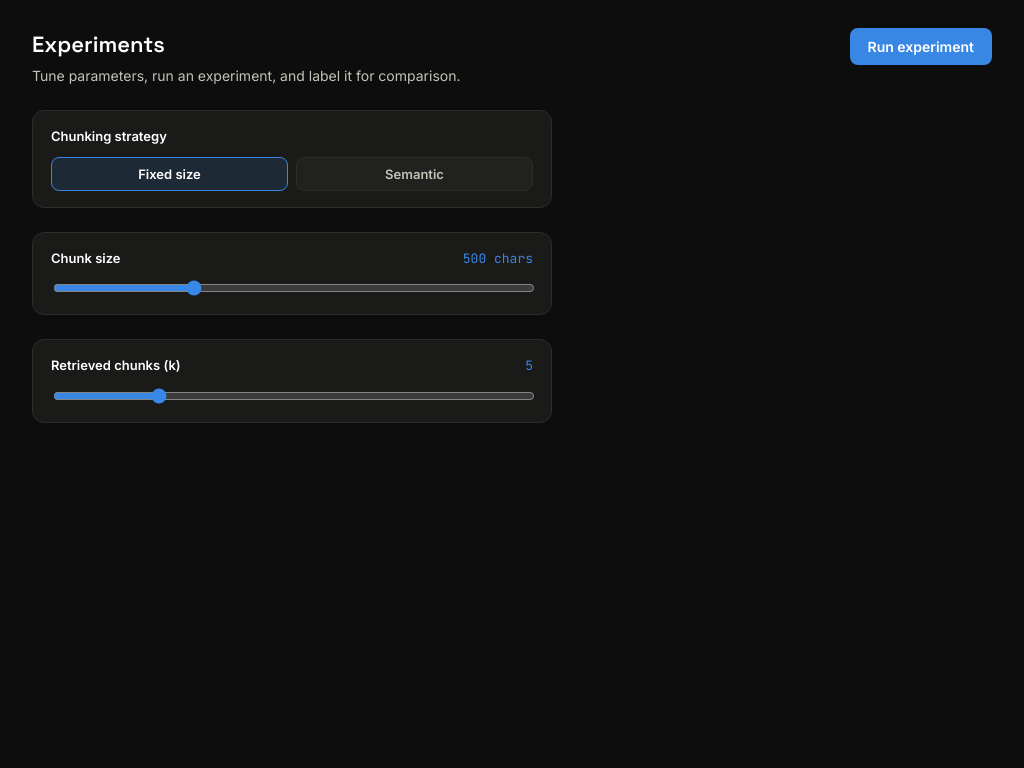
Test case: ExperimentsView › labels a completed run
This screenshot has width=1024, height=768.
Expected: the text "500 chars" is shown, [463,248,533,268]
Click the button "Run experiment": point(921, 46) [850,28,992,65]
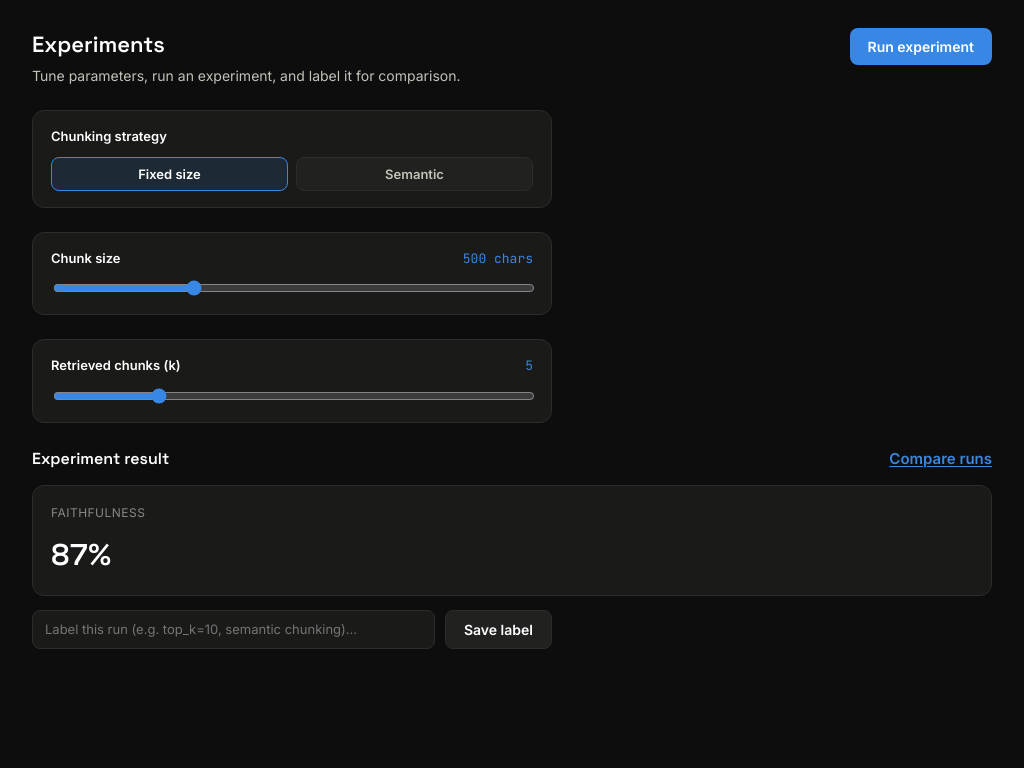
Result: the heading "Experiment result" is shown at [32,446,169,470]
In the field with placeholder "Label this run (e.g. top_k=10, semantic chunking)…": point(233, 629) [32,610,435,648], type "baseline"
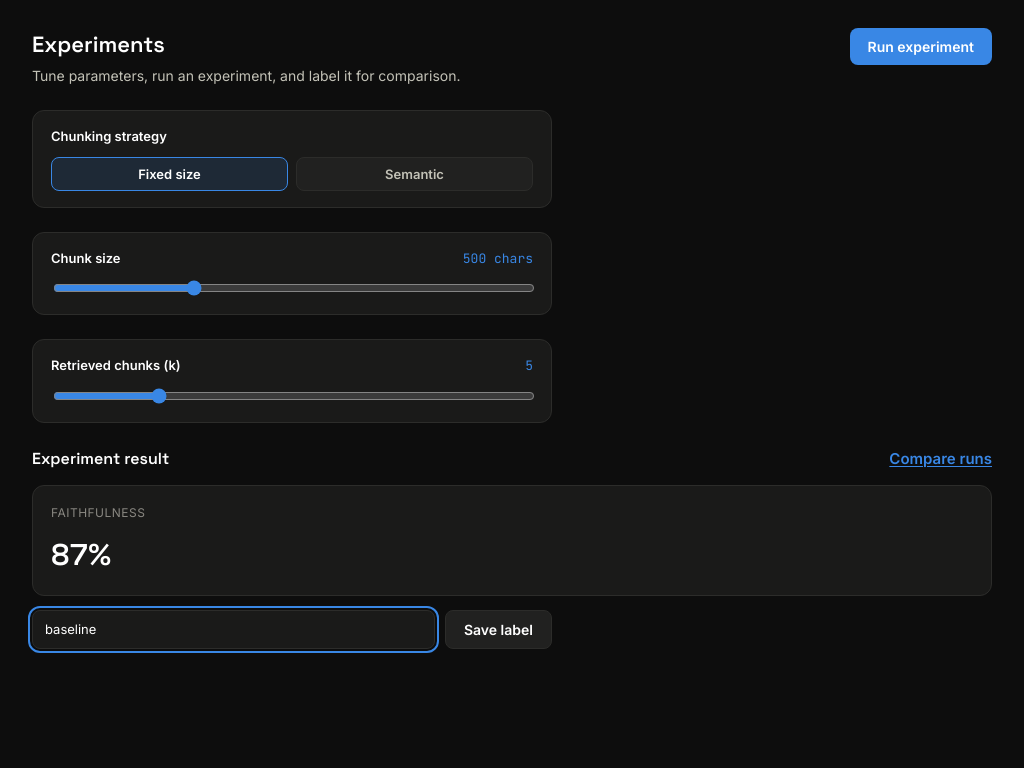
Click the button "Save label": point(498, 629) [445,610,552,648]
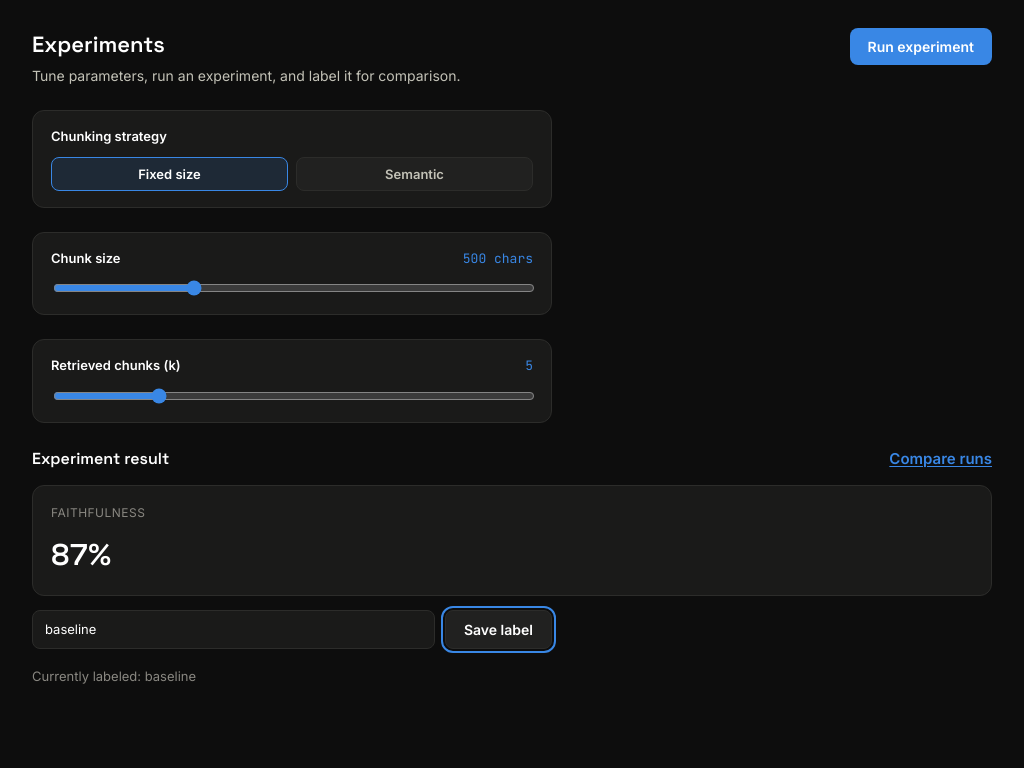
Result: the text "Currently labeled: baseline" is shown at [32,668,196,684]
